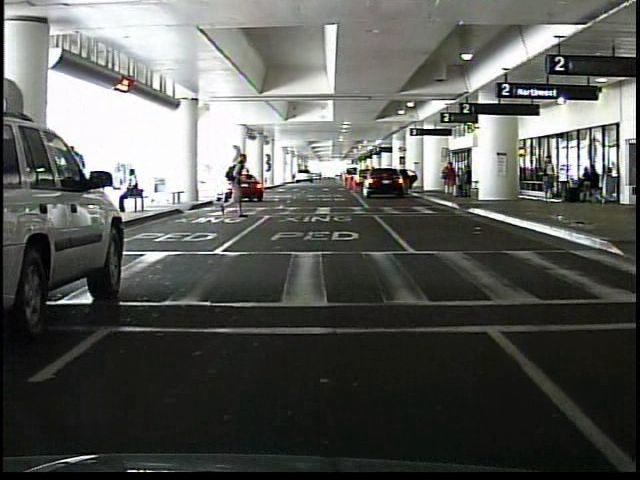person: (217, 155, 253, 220), (120, 166, 145, 215), (441, 160, 459, 199), (542, 154, 556, 201), (463, 165, 464, 199)
